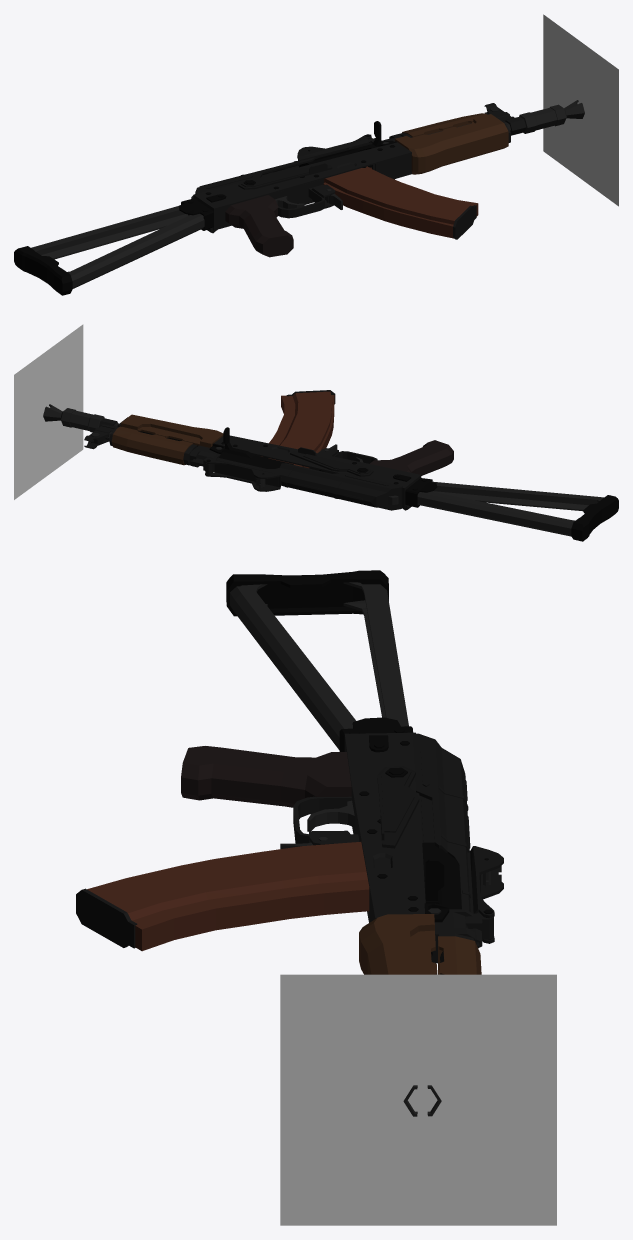
The picture shows the model from 3 angles, top to bottom: view 1: azimuth 30°, elevation 25°; view 2: azimuth 150°, elevation 25°; view 3: azimuth 270°, elevation 25°; orthographic projection. The views are drawn at different scales.
Visible parts, largest first — view 1: gunModel, flashModel, ammoModel, slideModel; view 2: gunModel, flashModel, ammoModel, slideModel; view 3: flashModel, gunModel, ammoModel, slideModel.
Part boxes in pixels (x1=…): gunModel: x1=14, y1=100, x2=584, y2=295; flashModel: x1=543, y1=14, x2=618, y2=206; ammoModel: x1=323, y1=166, x2=478, y2=239; slideModel: x1=299, y1=121, x2=382, y2=167; gunModel: x1=43, y1=404, x2=618, y2=541; flashModel: x1=14, y1=324, x2=83, y2=499; ammoModel: x1=260, y1=390, x2=335, y2=468; slideModel: x1=219, y1=427, x2=293, y2=468; flashModel: x1=280, y1=974, x2=556, y2=1225; gunModel: x1=181, y1=570, x2=503, y2=1116; ammoModel: x1=76, y1=842, x2=369, y2=951; slideModel: x1=422, y1=842, x2=461, y2=909.
Size of the model in its own units: 19.49 by 4.42 by 7.69.
